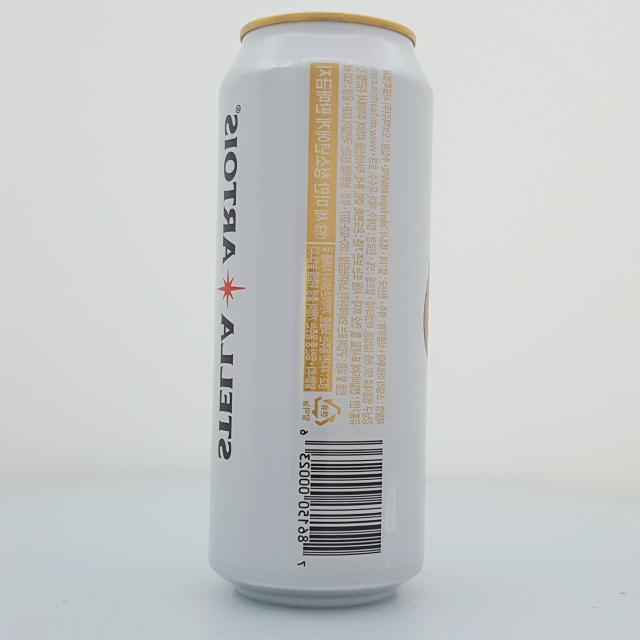metal: (210, 11, 432, 609)
